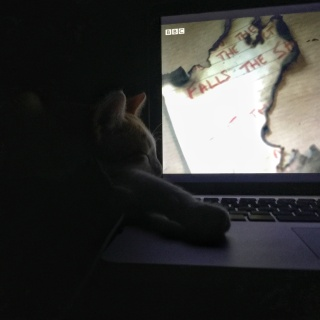Cat: (73, 88, 231, 247)
